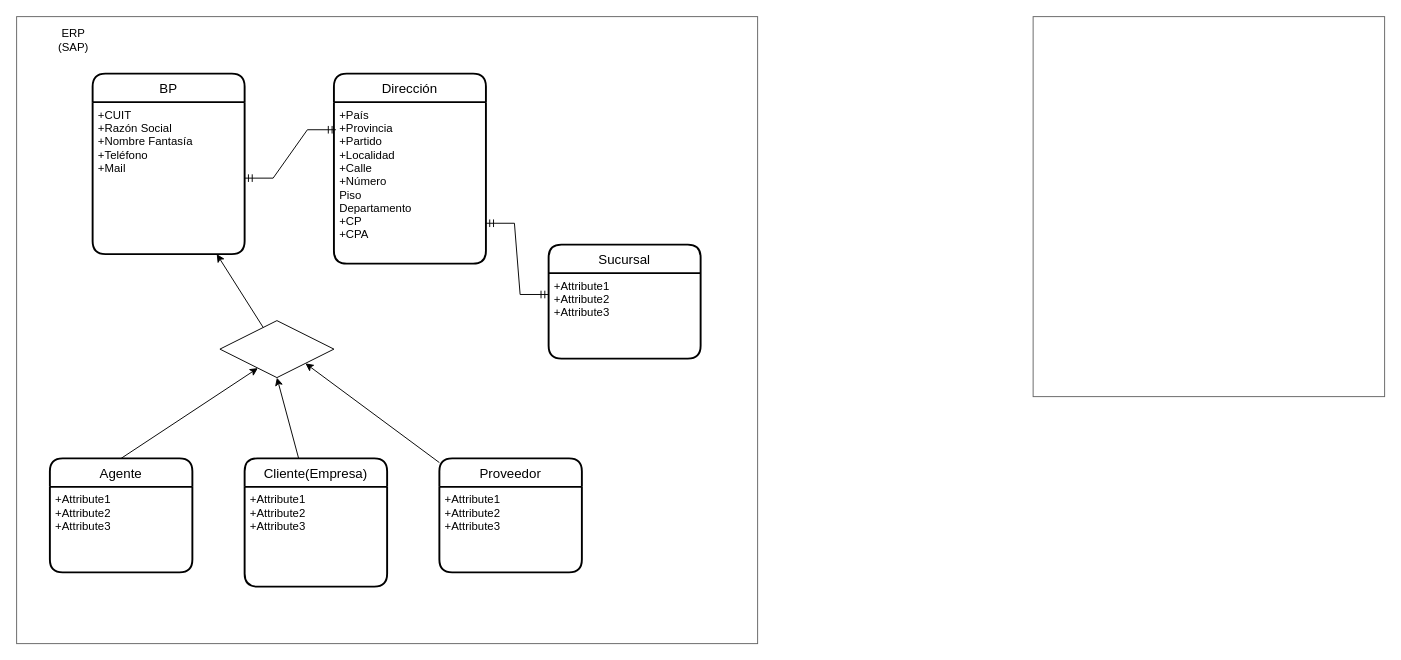
Some shapes in this 1401 by 660 pixel diagram are drawn without their labels. Each missing label, with the centre of its shape:
"CRM (Salesforce)" belongs at [1208,206].
"ROL" belongs at [276,349].
